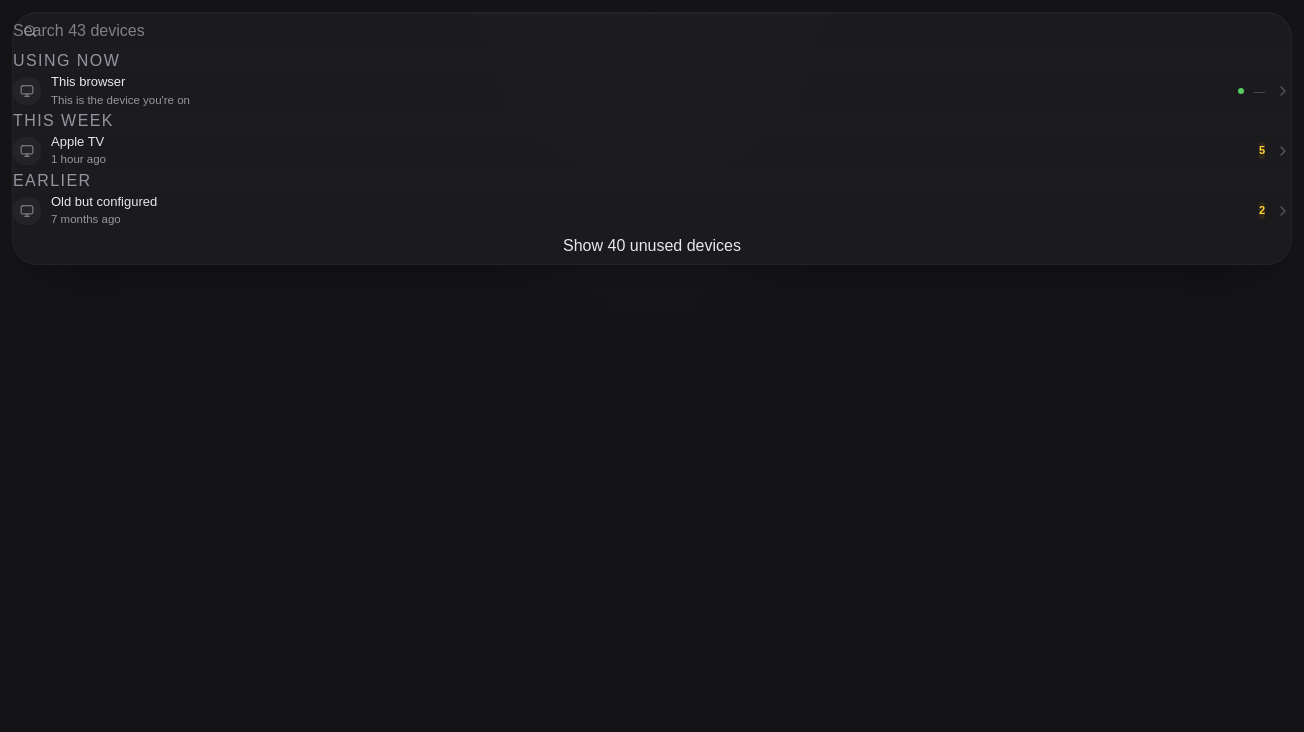
Test case: DeviceList at scale › says how many it is holding back, and reveals them on request
expect the text "This browser" is shown: met, box [51,74,125,89]
expect the text "Apple TV" is shown: met, box [51,134,104,149]
What coordinates should you click on to do the following:
click the button "Show 40 unused devices"
I would click on:
 (652, 246)
Its box is [13,228,1291,264].
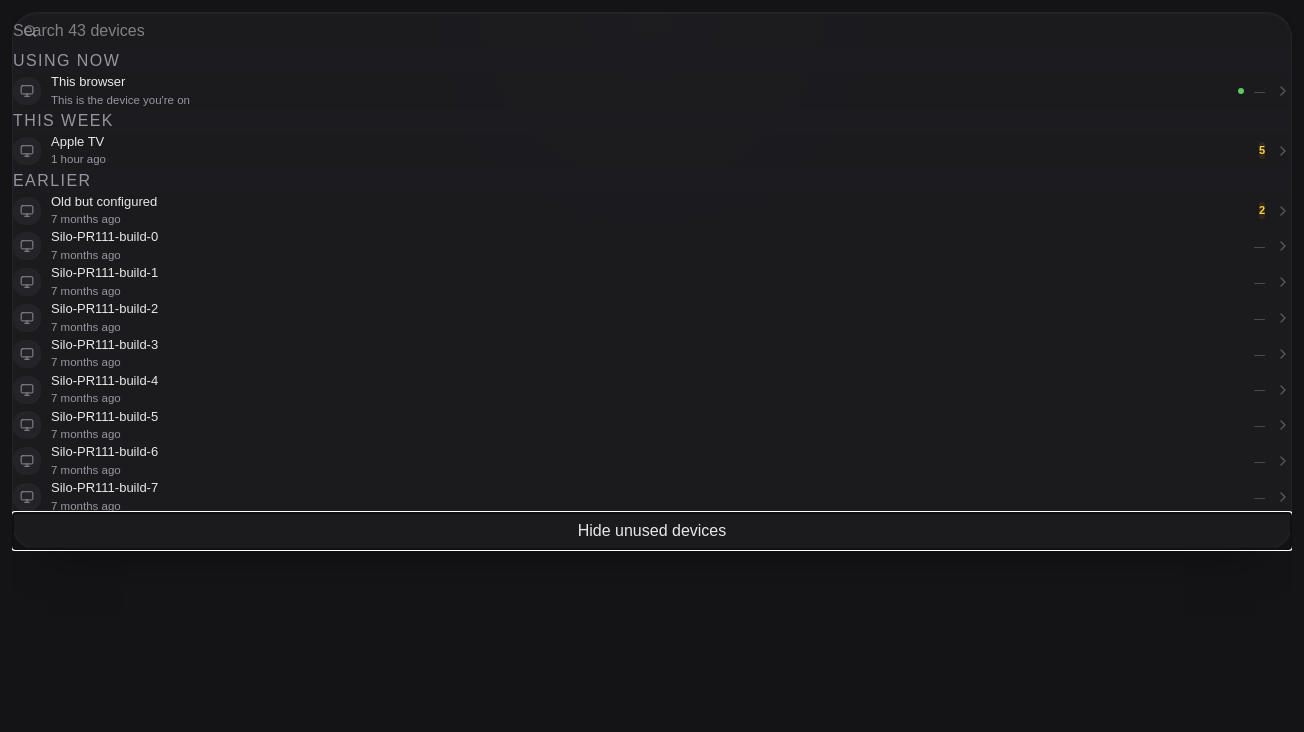
expect the text "Silo-PR111-build-0" is shown: met, box [51,229,158,244]
expect the button "Hide unused devices" is shown: met, box [13,513,1291,549]
